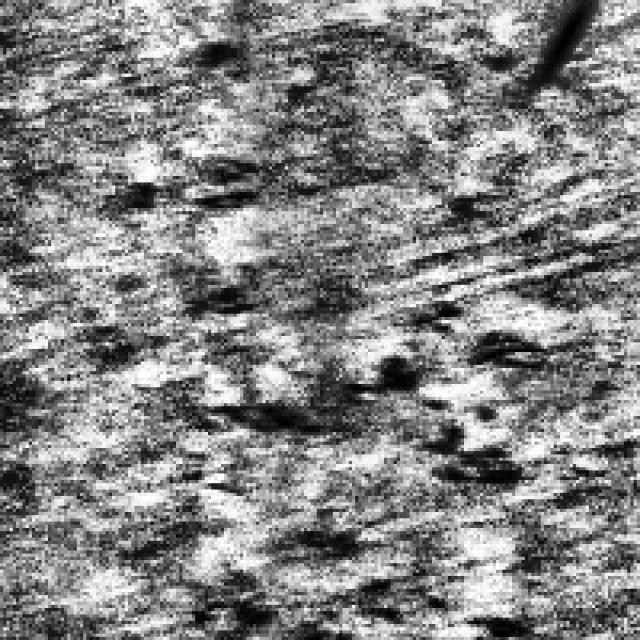Crazing: (138, 272, 548, 506), (115, 32, 307, 307)
